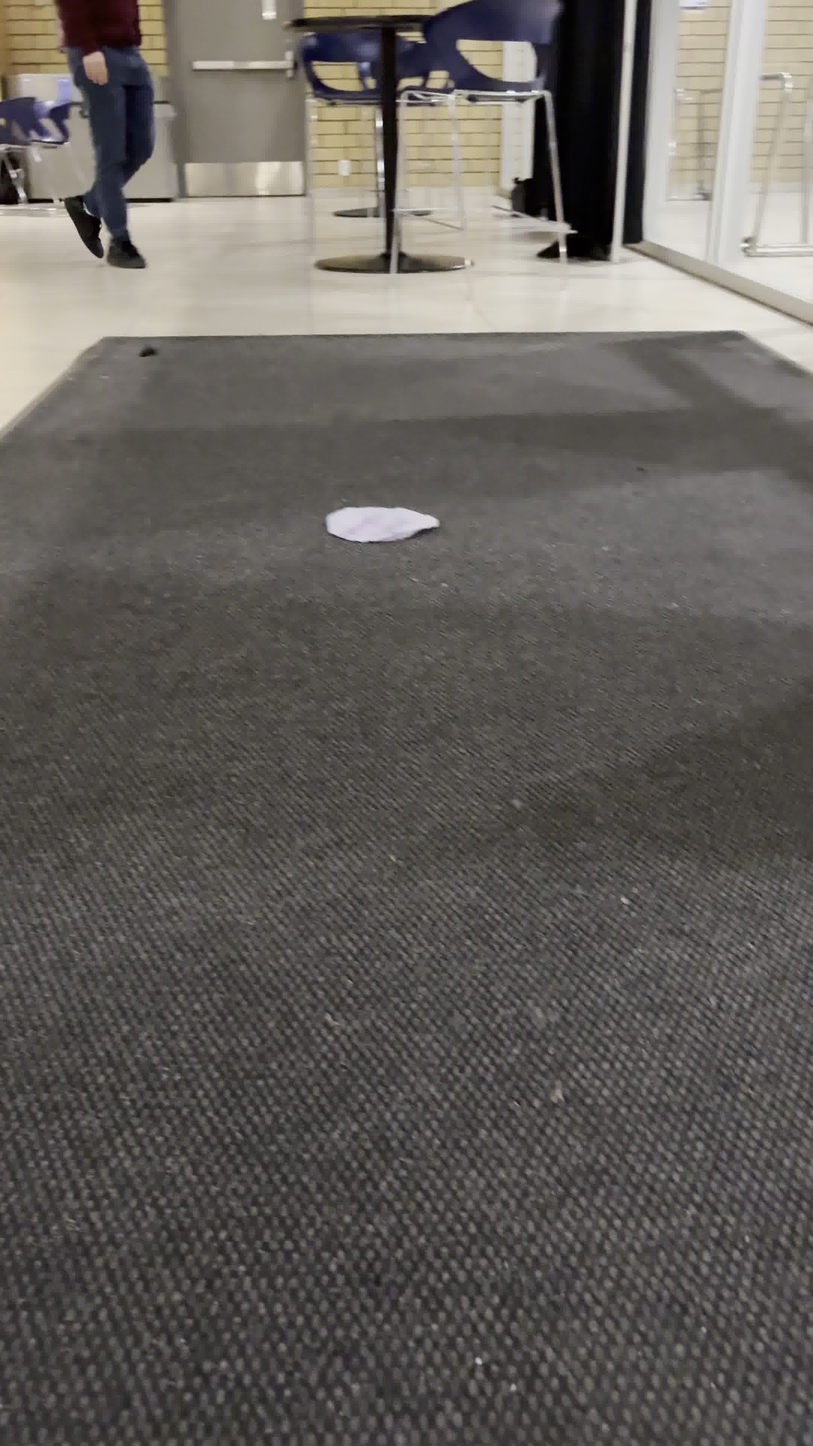Target: (321, 502, 444, 549)
